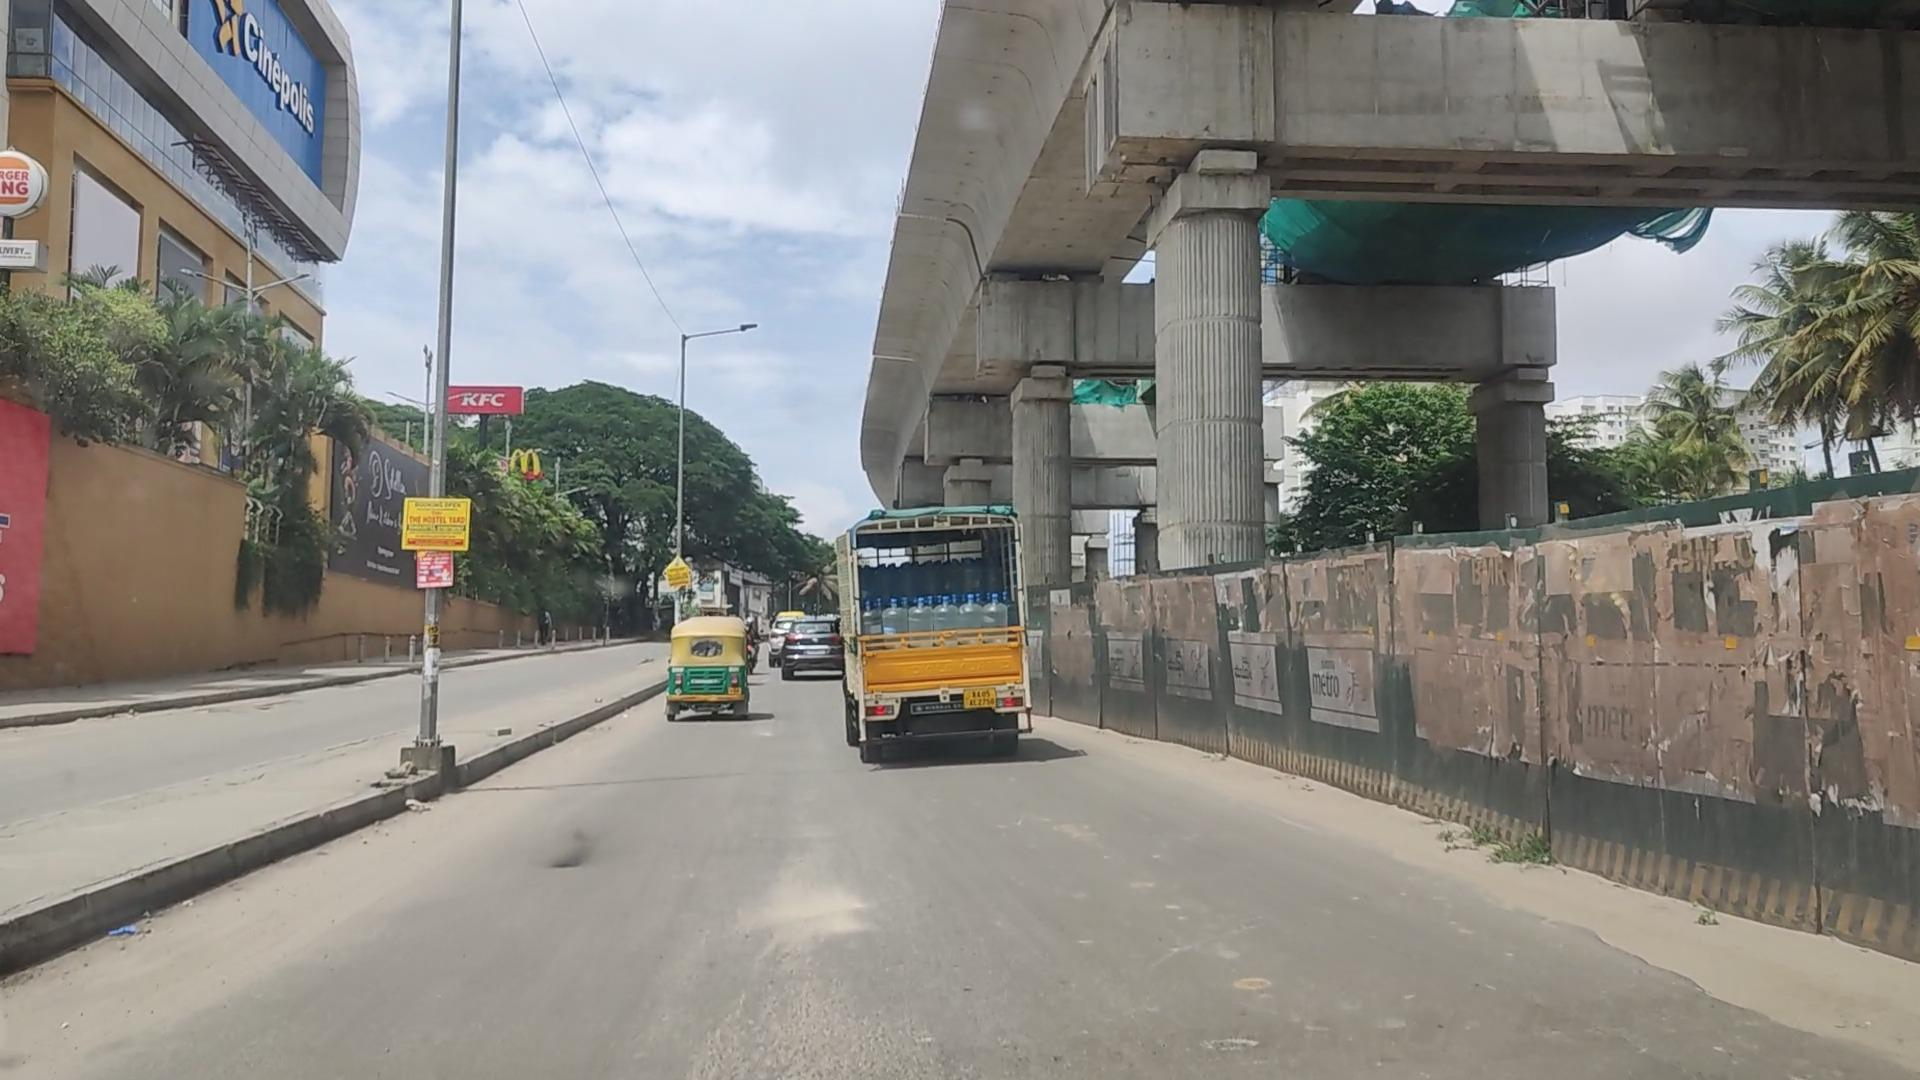HMV: (837, 492, 1029, 777)
LMV: (662, 616, 760, 727)
